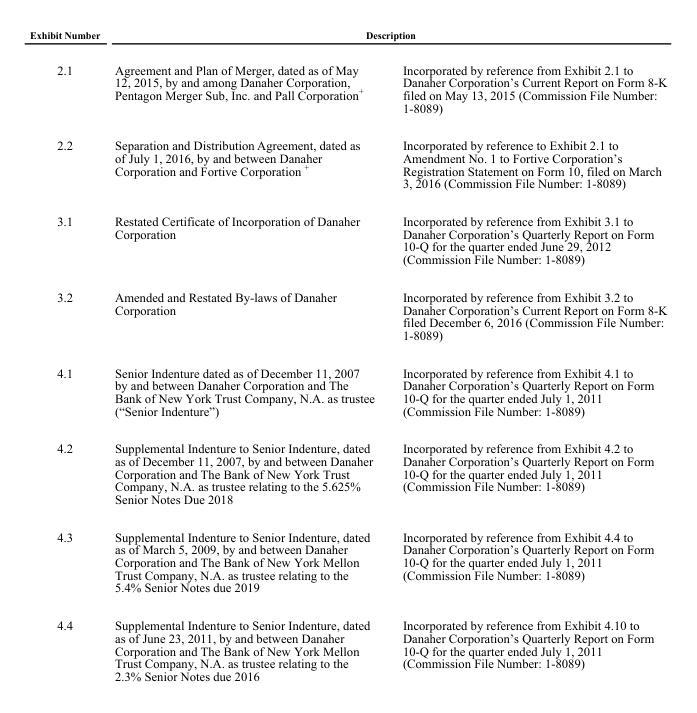table: (29, 28, 666, 682)
table column: (106, 28, 387, 682), (387, 28, 666, 682), (29, 28, 106, 682)
table column header: (29, 28, 666, 126)
table row: (29, 517, 666, 606), (29, 429, 666, 517), (29, 126, 666, 202), (29, 277, 666, 353), (29, 353, 666, 429), (29, 606, 666, 682), (29, 51, 666, 126), (29, 202, 666, 277), (29, 28, 666, 51)
table spanning cell: (106, 28, 666, 51), (29, 28, 106, 126)
